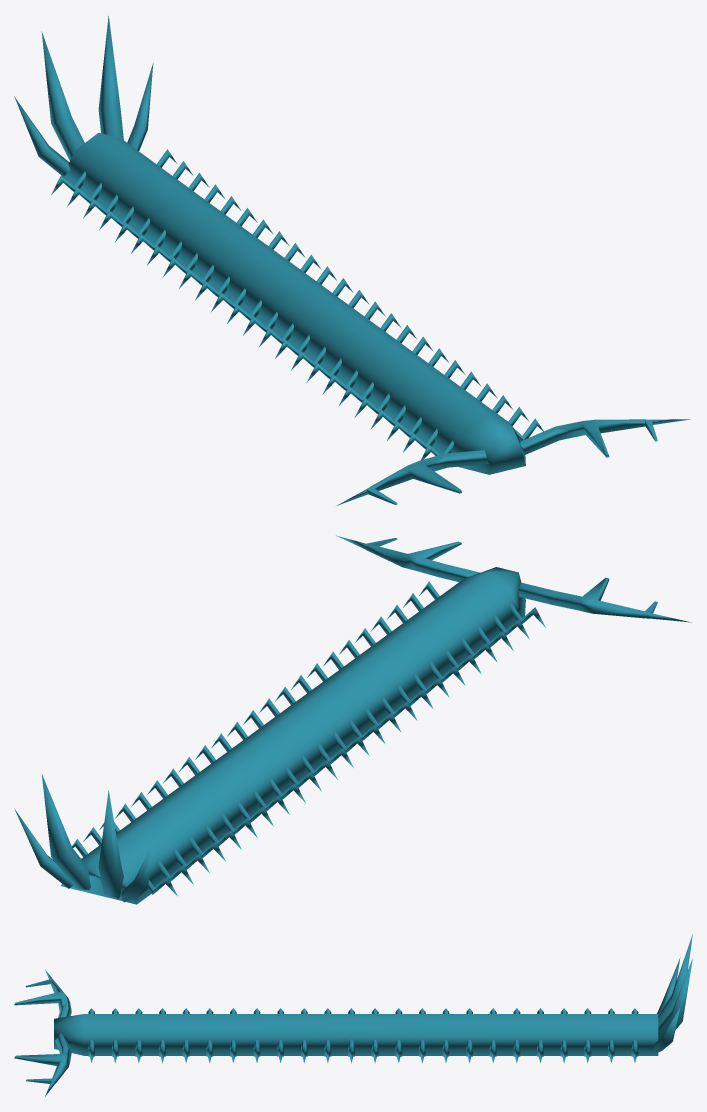
The model's file is pendr.fbx.
3 views of the same model, one above another, from view 1: azimuth 30°, elevation 25°; view 2: azimuth 150°, elevation 25°; view 3: azimuth 270°, elevation 25° (orthographic). The views are drawn at different scales.
Visible parts, largest first — view 1: pendr_Mesh_001; view 2: pendr_Mesh_001; view 3: pendr_Mesh_001.
Part boxes in pixels (<box>): pendr_Mesh_001: <box>14,16,690,505</box>; pendr_Mesh_001: <box>14,535,691,904</box>; pendr_Mesh_001: <box>14,934,692,1096</box>.
Bounding box in the file's own units: 25.27 × 8.86 × 56.19.
